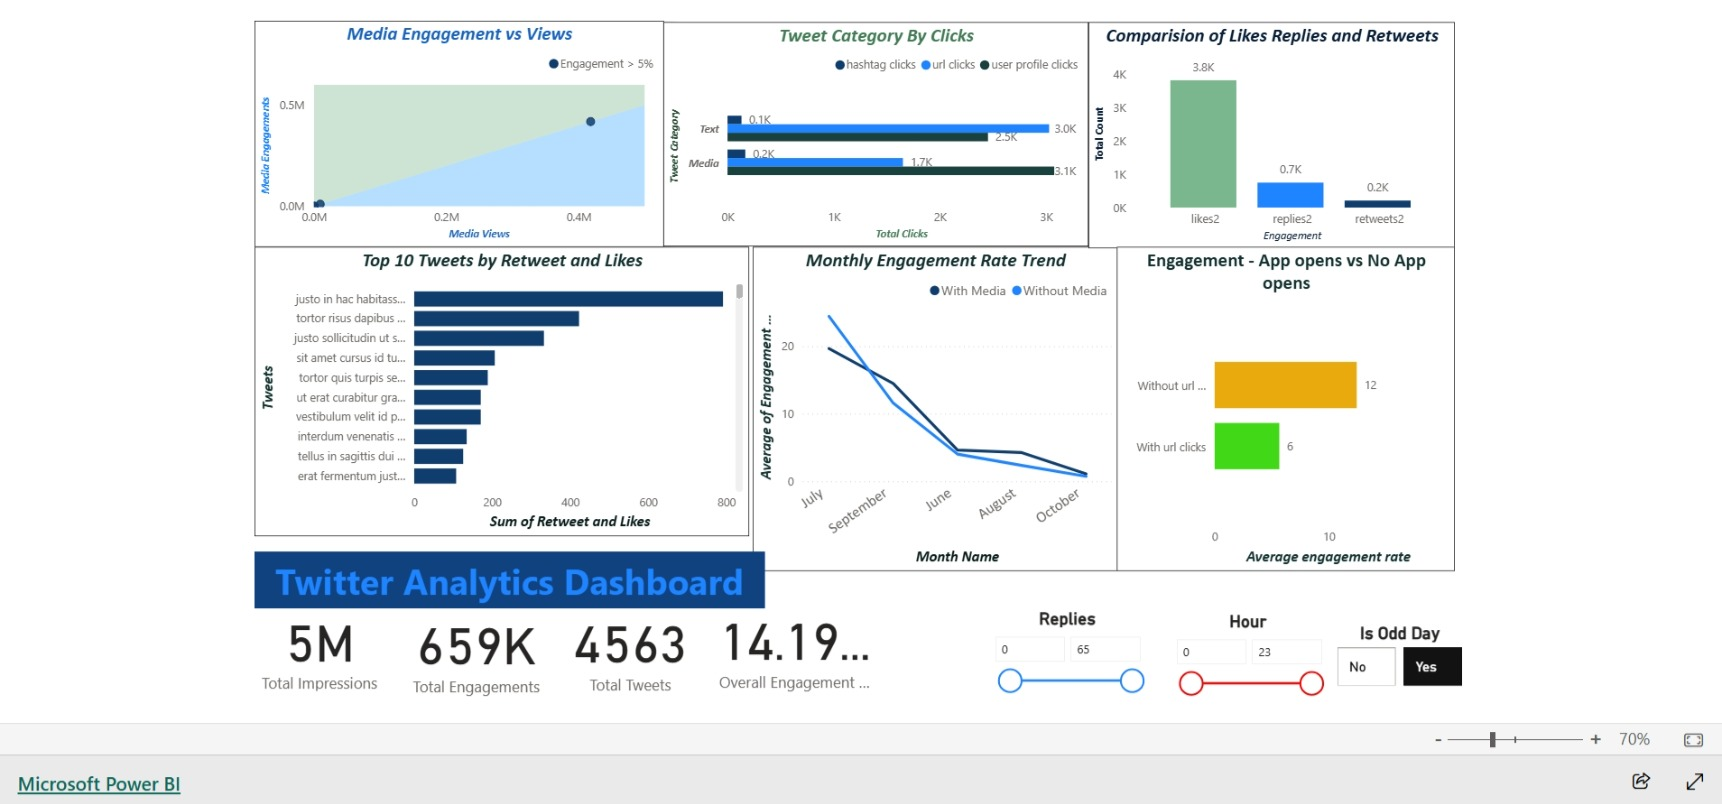

Layout of this report page (visuals, bound fields, positions):
{"tool":"powerbi","page":{"name":"Atul Task","canvas":[1280,720],"ordinal":0},"visuals":[{"type":"scatterChart","title":"Media Engagement vs Views","fields":{"Category":["SocialMedia.Tweet"],"Series":["SocialMedia.HighlightColumn"],"X":["SocialMedia.media views"],"Y":["SocialMedia.media engagements"]},"box":[0,0,431.7,238.3],"z":0},{"type":"clusteredBarChart","title":"Tweet Category By Clicks","fields":{"Category":["SocialMedia.Tweet Category"],"Y":["SocialMedia.NumberoOfClicks"],"Series":["SocialMedia.ClickType"]},"box":[431.7,1.7,448.3,236.7],"z":1000},{"type":"barChart","title":"Top 10 Tweets by Retweet and Likes","fields":{"Category":["SocialMedia.Tweet"],"Y":["SocialMedia.Retweets + Likes"],"Series":["SocialMedia.IsOddDay"]},"box":[0,238.3,521.7,305],"z":2000},{"type":"lineChart","title":"Monthly Engagement Rate Trend","fields":{"Category":["SocialMedia.Month Name"],"Y":["SocialMedia.engagement rate"],"Series":["SocialMedia.Has Media"]},"box":[525,238.3,385,341.7],"z":3000},{"type":"clusteredColumnChart","title":"Comparision of Likes Replies and Retweets","fields":{"Category":["SocialMedia.Engagement Type"],"Y":["SocialMedia.Count"]},"box":[880,1.7,386.7,238.3],"z":4000},{"type":"barChart","title":"Engagement - App opens vs No App opens","fields":{"Category":["SocialMedia.Has URL Clicks"],"Y":["SocialMedia.engagement rate"]},"box":[910,238.3,356.7,341.7],"z":5000},{"type":"slicer","title":"Replies","fields":{"Values":["SocialMedia.replies"]},"box":[768.3,620,178.3,95],"z":12000},{"type":"slicer","title":"Hour","fields":{"Values":["SocialMedia.Hour"]},"box":[960,623.3,176.7,95],"z":14000},{"type":"advancedSlicerVisual","title":"Is Odd Day","fields":{"Values":["SocialMedia.IsOddDay"]},"box":[1136.7,635,143.3,71.7],"z":15000},{"type":"textbox","box":[0,560,538.3,60],"z":16000},{"type":"card","fields":{"Values":["SocialMedia.Total Impressions"]},"box":[0,608.3,136.7,103.3],"z":17000},{"type":"card","fields":{"Values":["SocialMedia.Total Engagements"]},"box":[156.7,605,153.3,115],"z":18000},{"type":"card","fields":{"Values":["SocialMedia.Total Tweets"]},"box":[326.7,611.7,138.3,100],"z":19000},{"type":"card","fields":{"Values":["SocialMedia.Overall Engagement Rate"]},"box":[483.3,596.7,173.3,123.3],"z":20000}]}

Visuals, with their boxes on the page's 1280x720 design canvas (x1, y1, x2, y2). These are canvas units, not pixel positions in the 1722x804 screenshot, which may show the page scaled, cropped or inside an application window:
"Media Engagement vs Views" scatterChart: rect(0, 0, 432, 238)
"Tweet Category By Clicks" clusteredBarChart: rect(432, 2, 880, 238)
"Top 10 Tweets by Retweet and Likes" barChart: rect(0, 238, 522, 543)
"Monthly Engagement Rate Trend" lineChart: rect(525, 238, 910, 580)
"Comparision of Likes Replies and Retweets" clusteredColumnChart: rect(880, 2, 1267, 240)
"Engagement - App opens vs No App opens" barChart: rect(910, 238, 1267, 580)
"Replies" slicer: rect(768, 620, 947, 715)
"Hour" slicer: rect(960, 623, 1137, 718)
"Is Odd Day" advancedSlicerVisual: rect(1137, 635, 1280, 707)
textbox: rect(0, 560, 538, 620)
card - SocialMedia.Total Impressions: rect(0, 608, 137, 712)
card - SocialMedia.Total Engagements: rect(157, 605, 310, 720)
card - SocialMedia.Total Tweets: rect(327, 612, 465, 712)
card - SocialMedia.Overall Engagement Rate: rect(483, 597, 657, 720)
